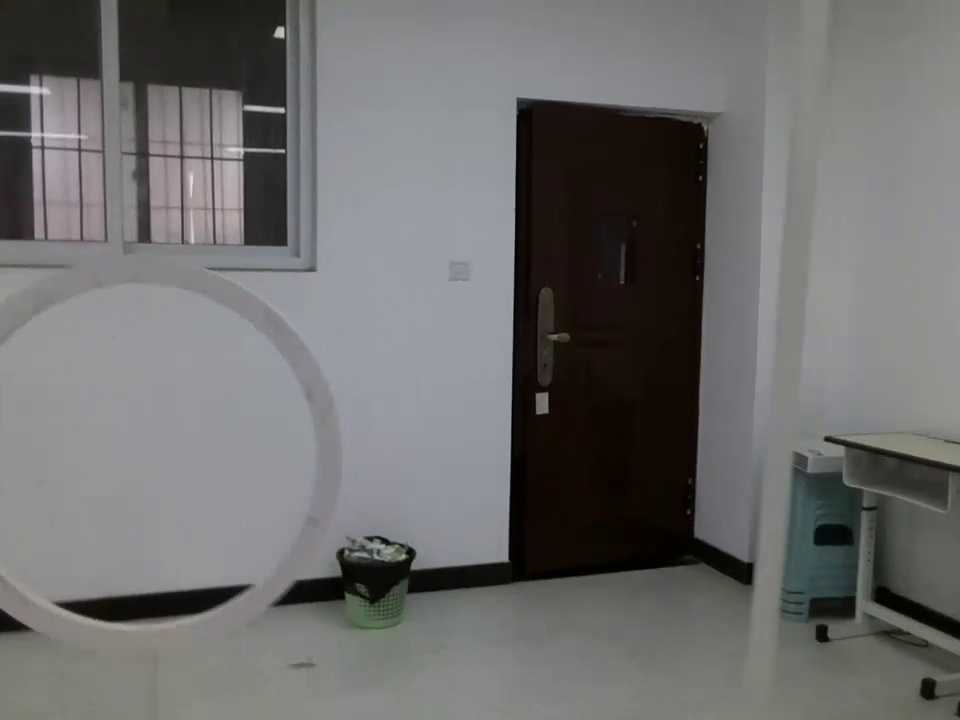gan: (745, 3, 820, 693)
quan: (1, 260, 346, 664)
